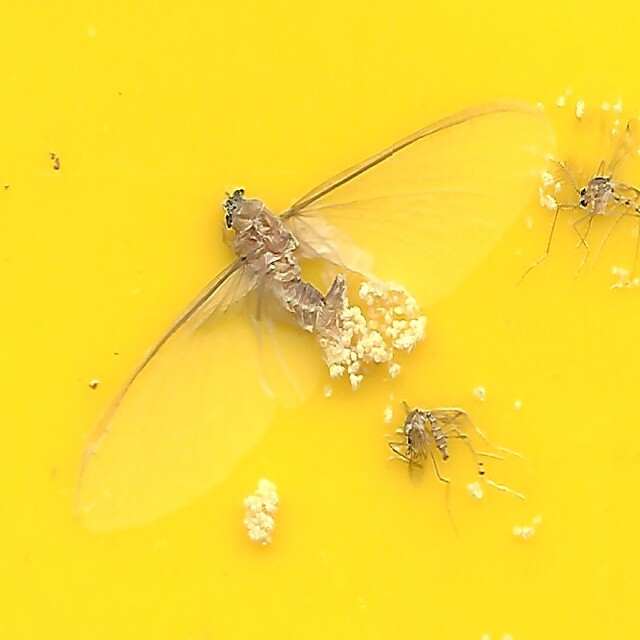Ephemeroptera: (72, 96, 568, 544)
